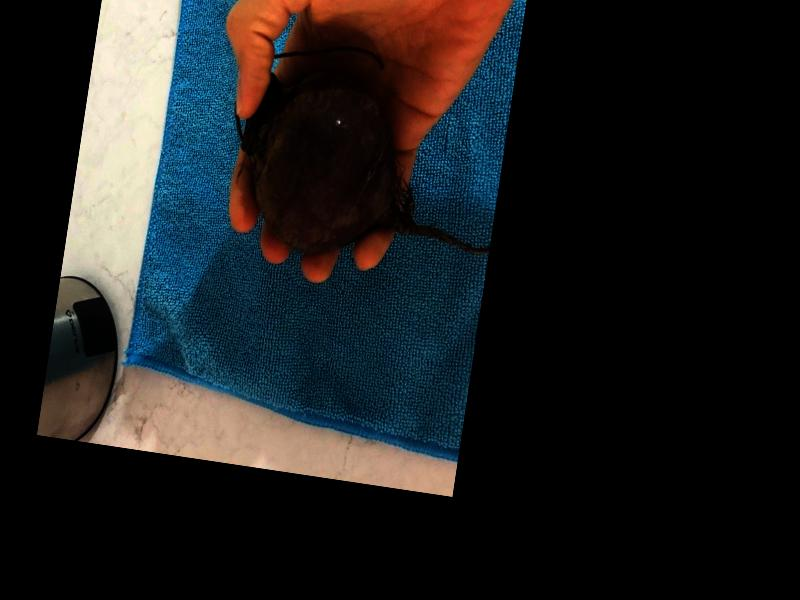Beet: (215, 32, 516, 280)
